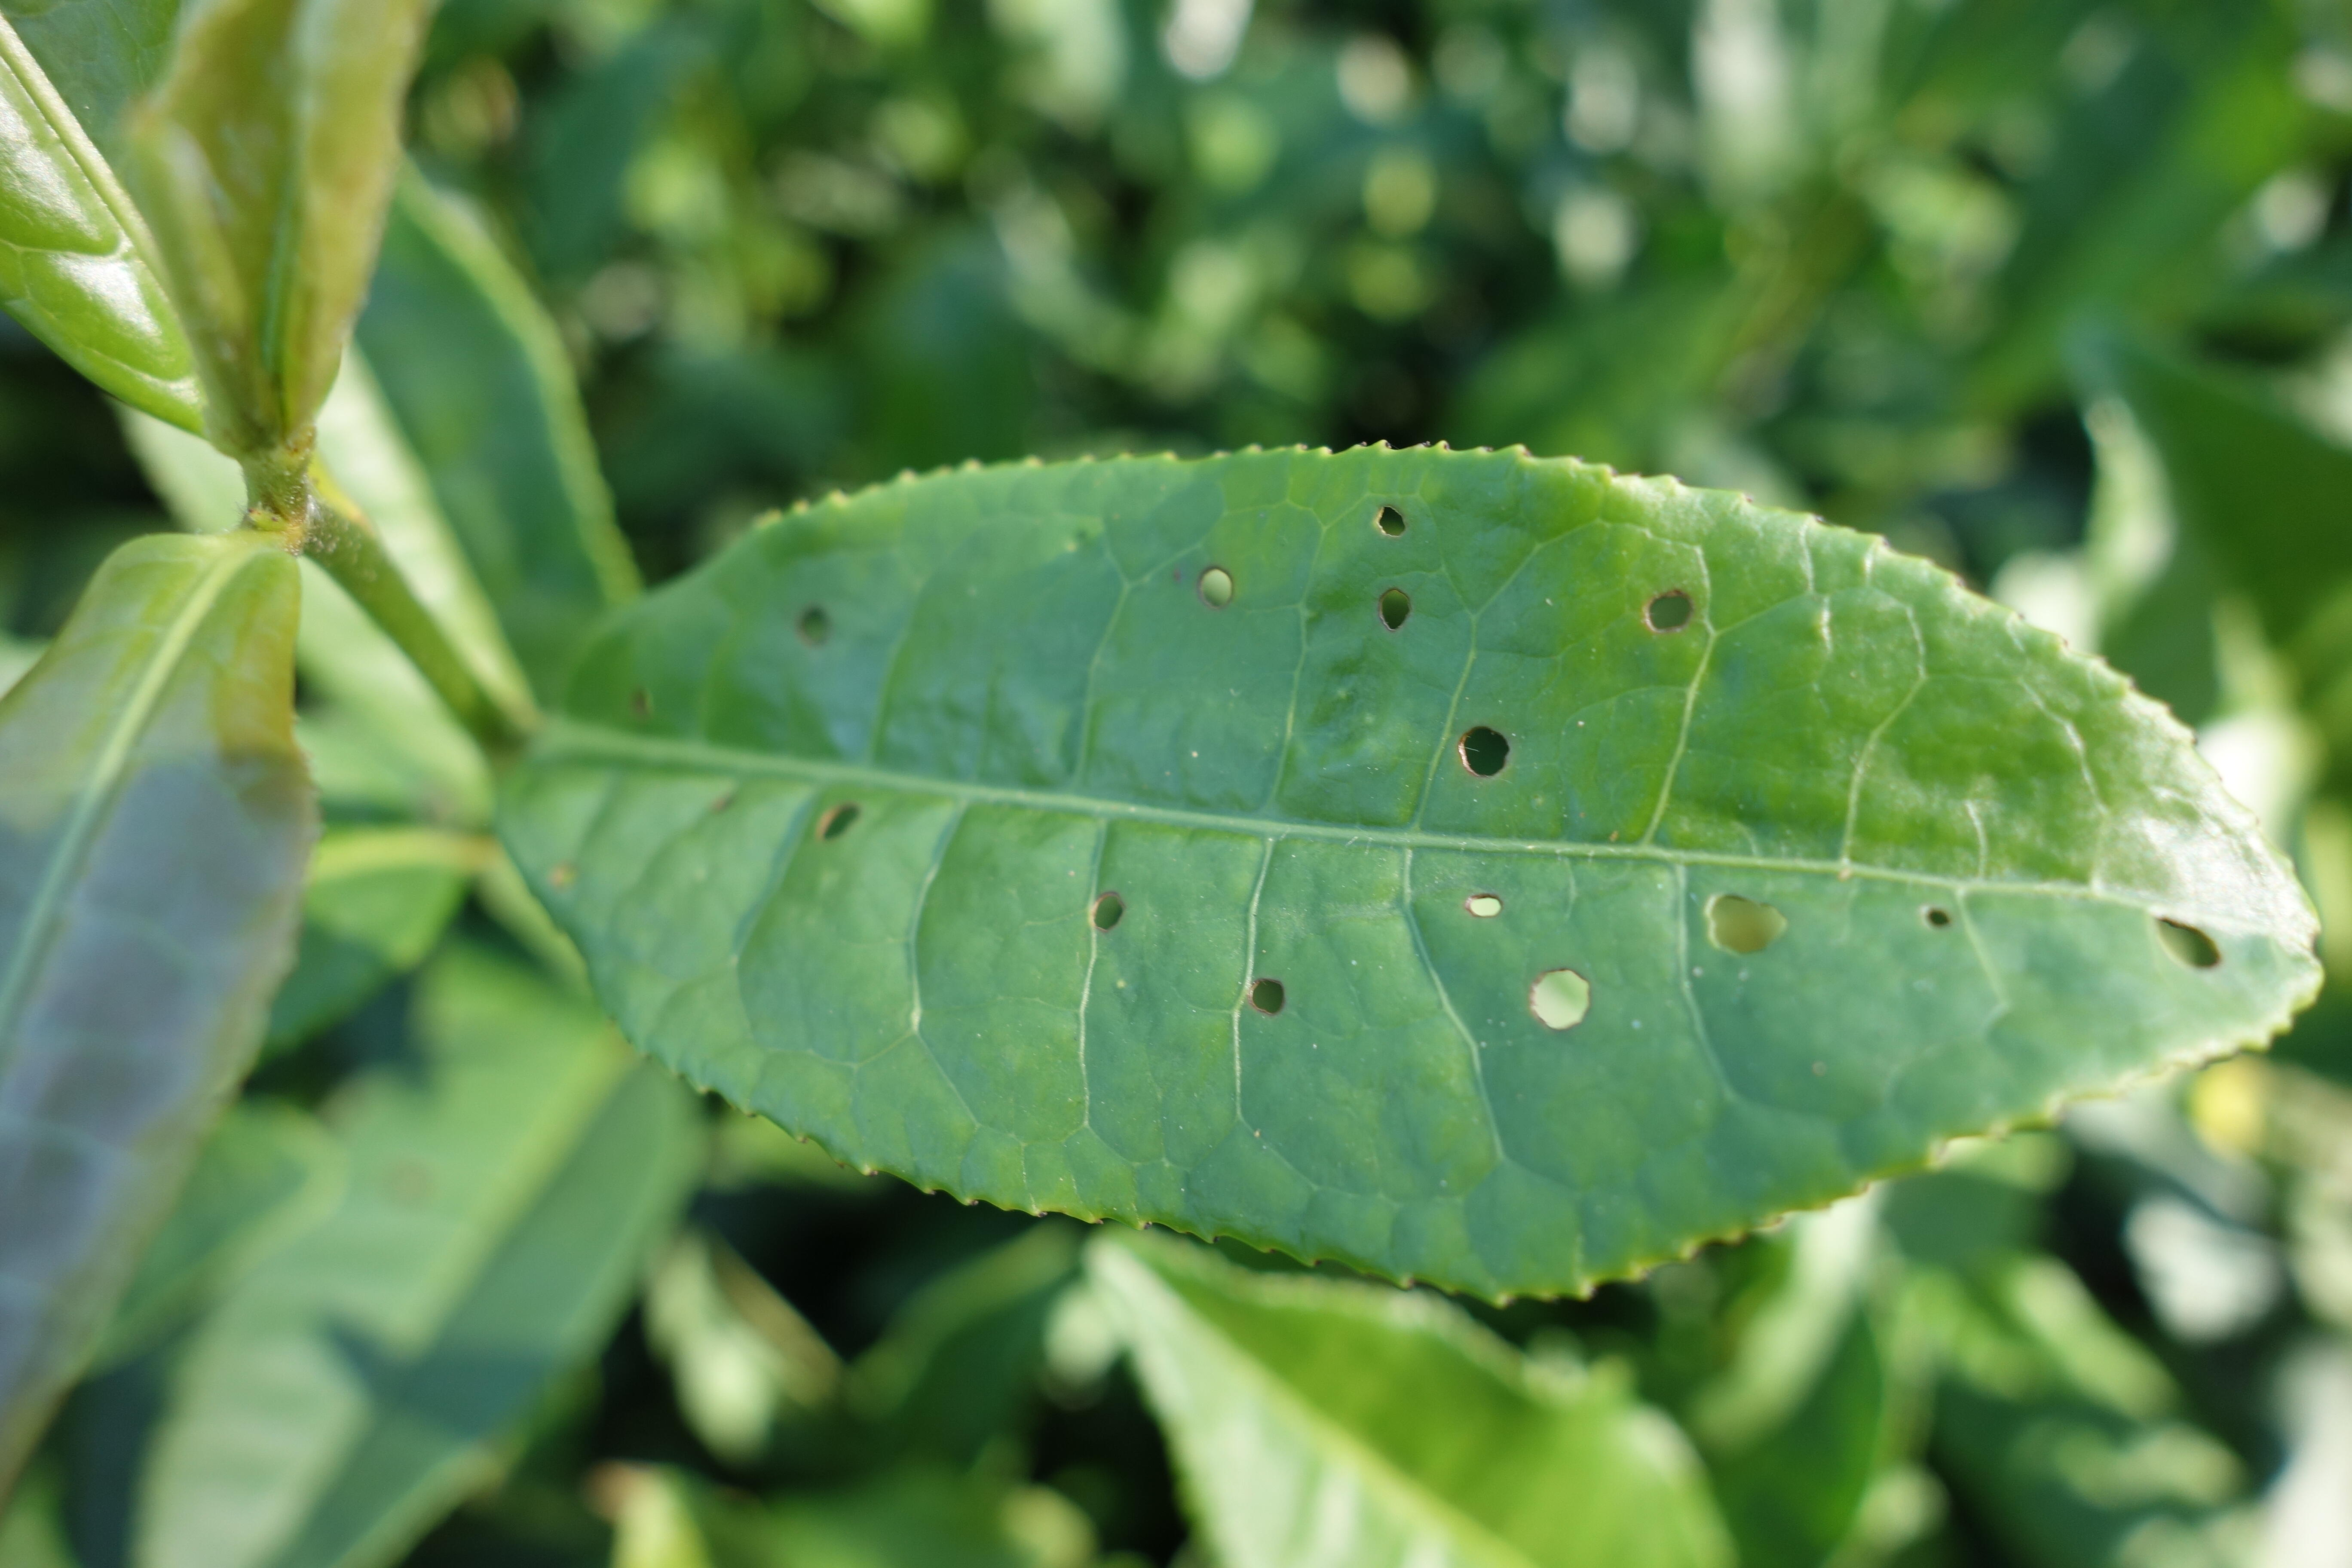chihuo_high: (481, 439, 2329, 1307)
